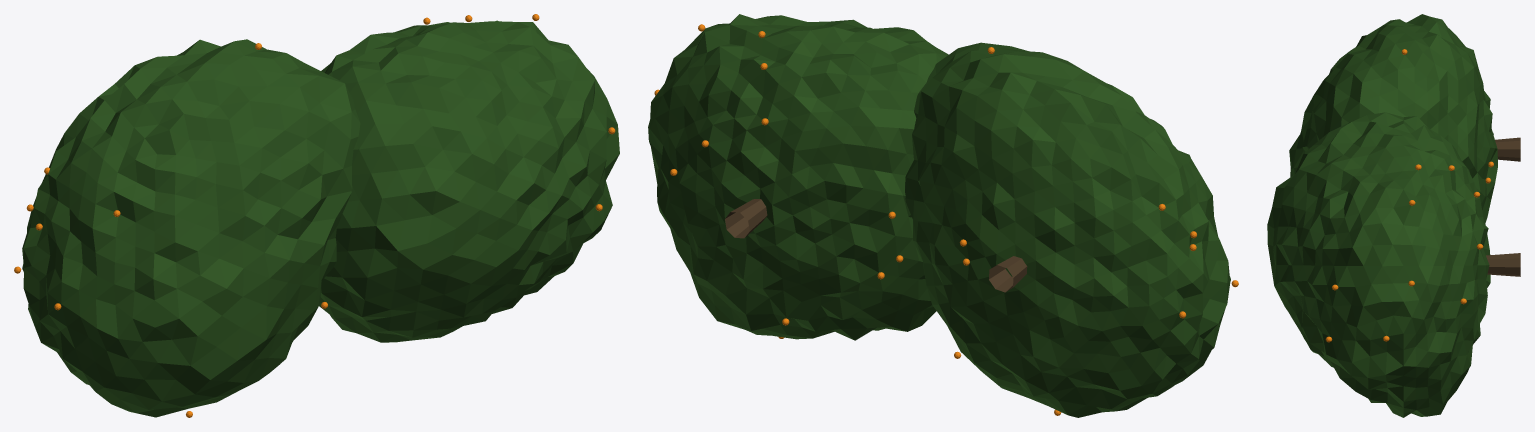
Rendered from citrus_run2_f_fruit.obj.
The picture shows the model from 3 angles, left to right: view 1: azimuth 30°, elevation 25°; view 2: azimuth 150°, elevation 25°; view 3: azimuth 270°, elevation 25°; orthographic projection. The views are drawn at different scales.
Parts seen in each view (by area): view 1: canopy, fruit; view 2: canopy, trunk, fruit; view 3: canopy, trunk, fruit.
Part boxes in pixels (box(x1,y1,x2,y2)): canopy: box(22, 20, 619, 417); fruit: box(14, 14, 615, 417); canopy: box(648, 14, 1230, 417); trunk: box(725, 199, 1027, 292); fruit: box(654, 24, 1238, 415); canopy: box(1267, 14, 1497, 417); trunk: box(1486, 137, 1520, 276); fruit: box(1325, 49, 1493, 342).
Size of the model in its own units: 6.49 by 3.73 by 3.02.
